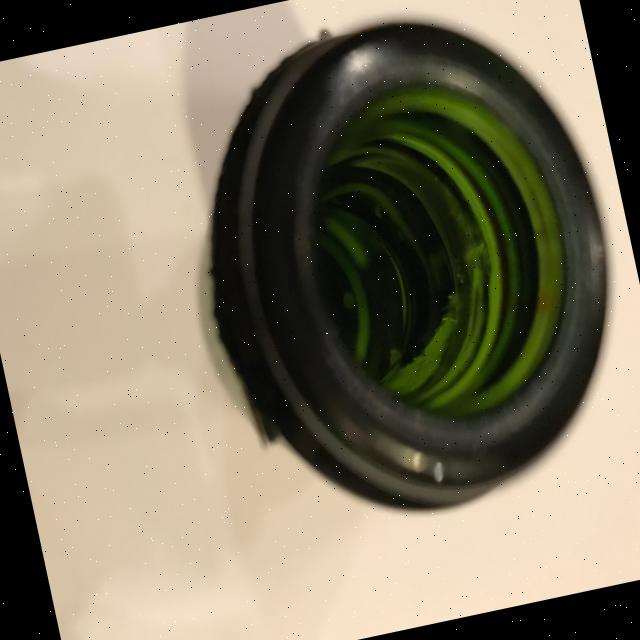glass: (154, 0, 640, 548)
